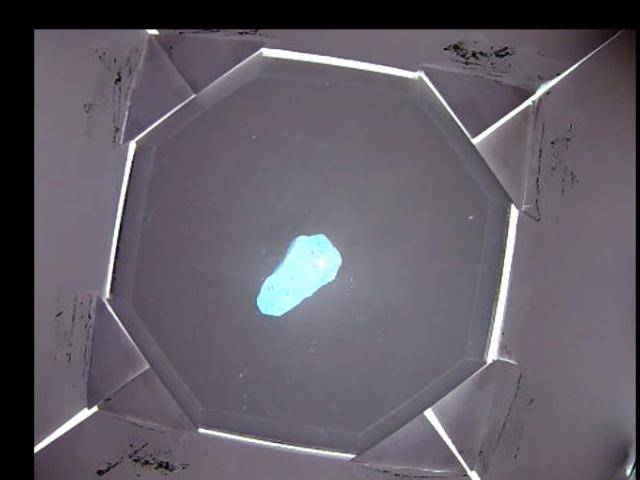Brisk: (260, 236, 337, 317)
